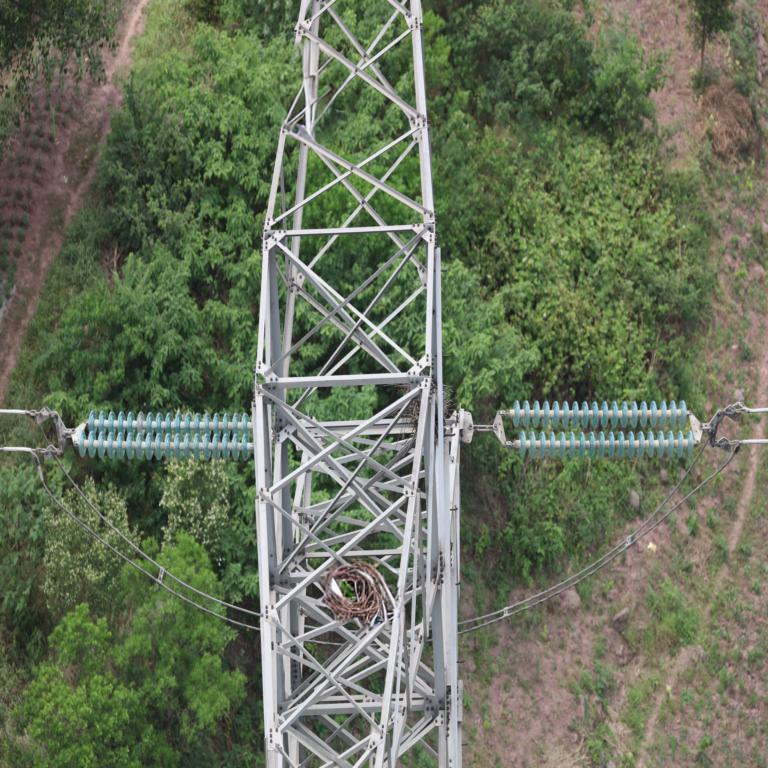nest: (321, 560, 384, 620), (406, 383, 447, 433)
